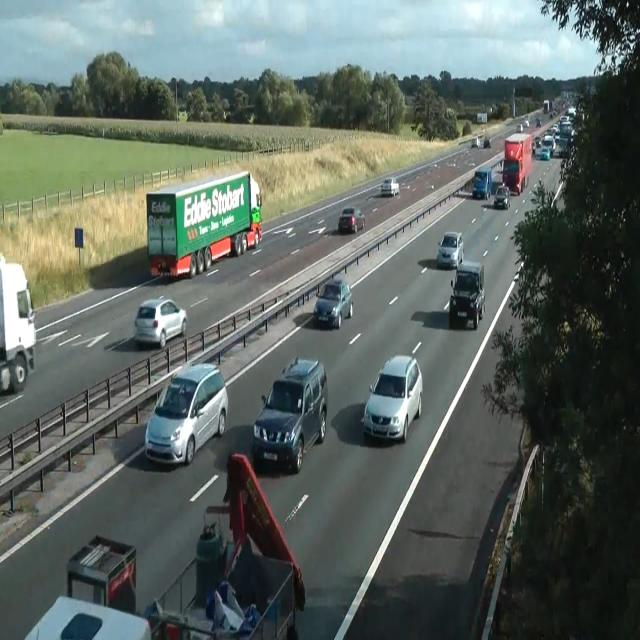bus: (24, 595, 152, 639), (134, 295, 187, 349), (313, 277, 353, 329), (436, 231, 464, 269), (338, 206, 365, 234), (494, 185, 511, 209), (528, 184, 548, 204), (380, 177, 399, 196), (471, 134, 491, 148), (513, 260, 525, 282), (536, 117, 542, 127), (517, 124, 523, 132), (524, 119, 530, 127)
car: (146, 452, 306, 638), (222, 452, 306, 612), (66, 532, 136, 614)
jeep: (252, 354, 328, 474), (144, 361, 228, 466), (362, 353, 422, 443), (449, 260, 485, 329)
minibus: (146, 170, 262, 278), (0, 254, 37, 395), (502, 132, 532, 194), (472, 167, 492, 199), (543, 99, 553, 113), (477, 112, 488, 124)
